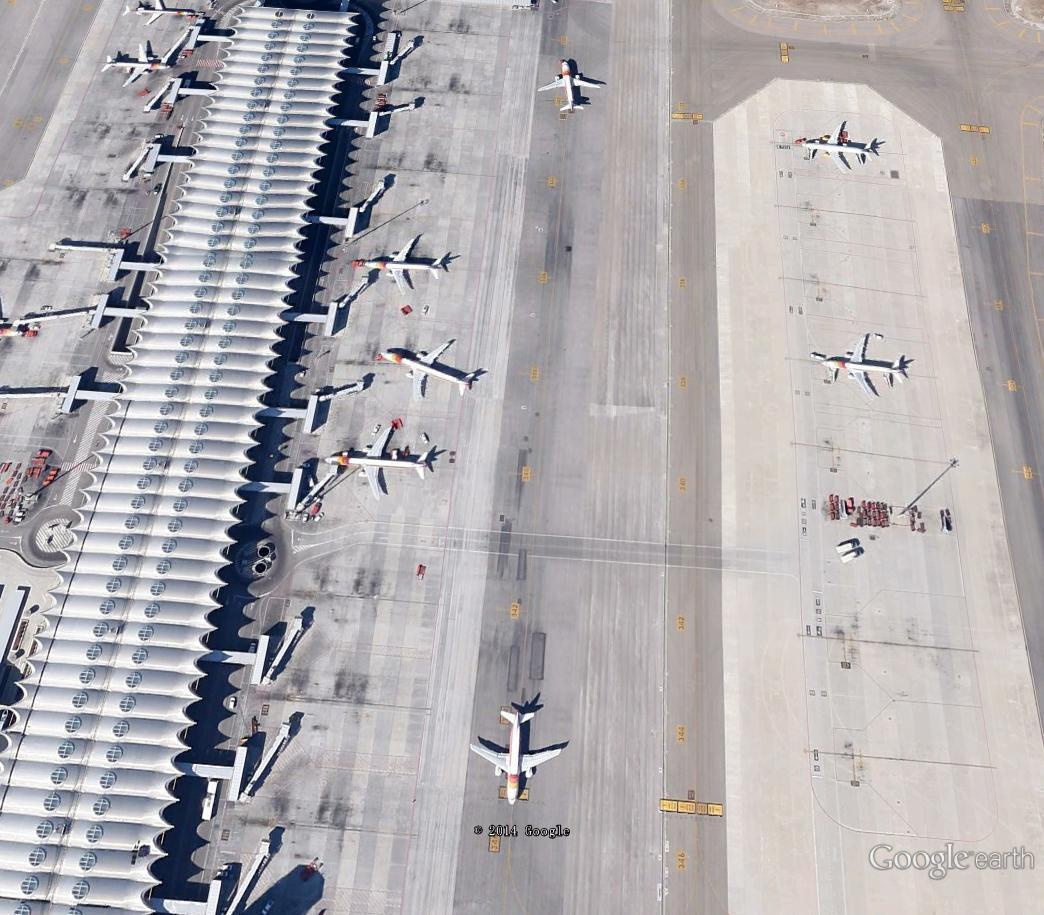aircraft: (468, 709, 571, 810), (325, 424, 444, 504), (808, 328, 919, 402), (379, 339, 489, 408), (348, 232, 453, 295), (792, 120, 885, 177), (537, 51, 610, 120), (102, 40, 180, 91), (120, 3, 216, 30)
